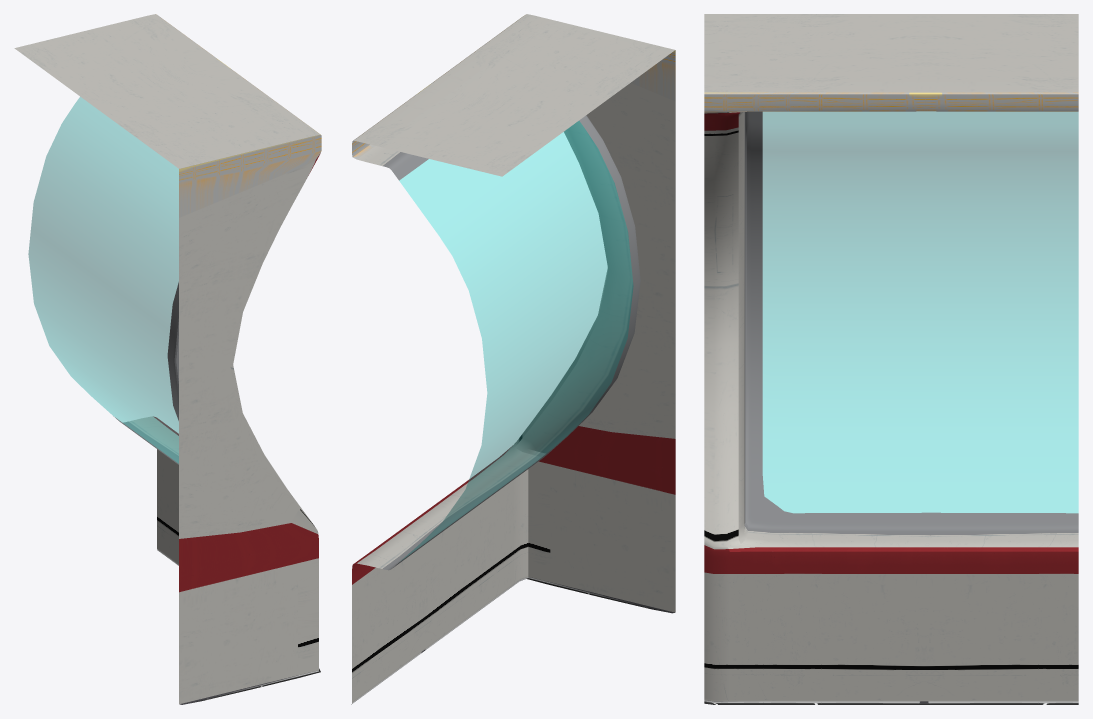
The model's file is G_Env_Arch_Wall_Window_02_Tileable.fbx.
3 renders of one model, left to right at view 1: azimuth 30°, elevation 25°; view 2: azimuth 150°, elevation 25°; view 3: azimuth 270°, elevation 25°, orthographic. The views are drawn at different scales.
Parts seen in each view (by area): view 1: G_Env_Arch_Wall_Window_02_Tileable; view 2: G_Env_Arch_Wall_Window_02_Tileable; view 3: G_Env_Arch_Wall_Window_02_Tileable.
Part boxes in pixels (left/top/right/bottom): G_Env_Arch_Wall_Window_02_Tileable: left=14, top=14, right=321, bottom=704; G_Env_Arch_Wall_Window_02_Tileable: left=351, top=14, right=675, bottom=704; G_Env_Arch_Wall_Window_02_Tileable: left=704, top=14, right=1078, bottom=704.
Size of the model in its own units: 253 by 900 by 500.
